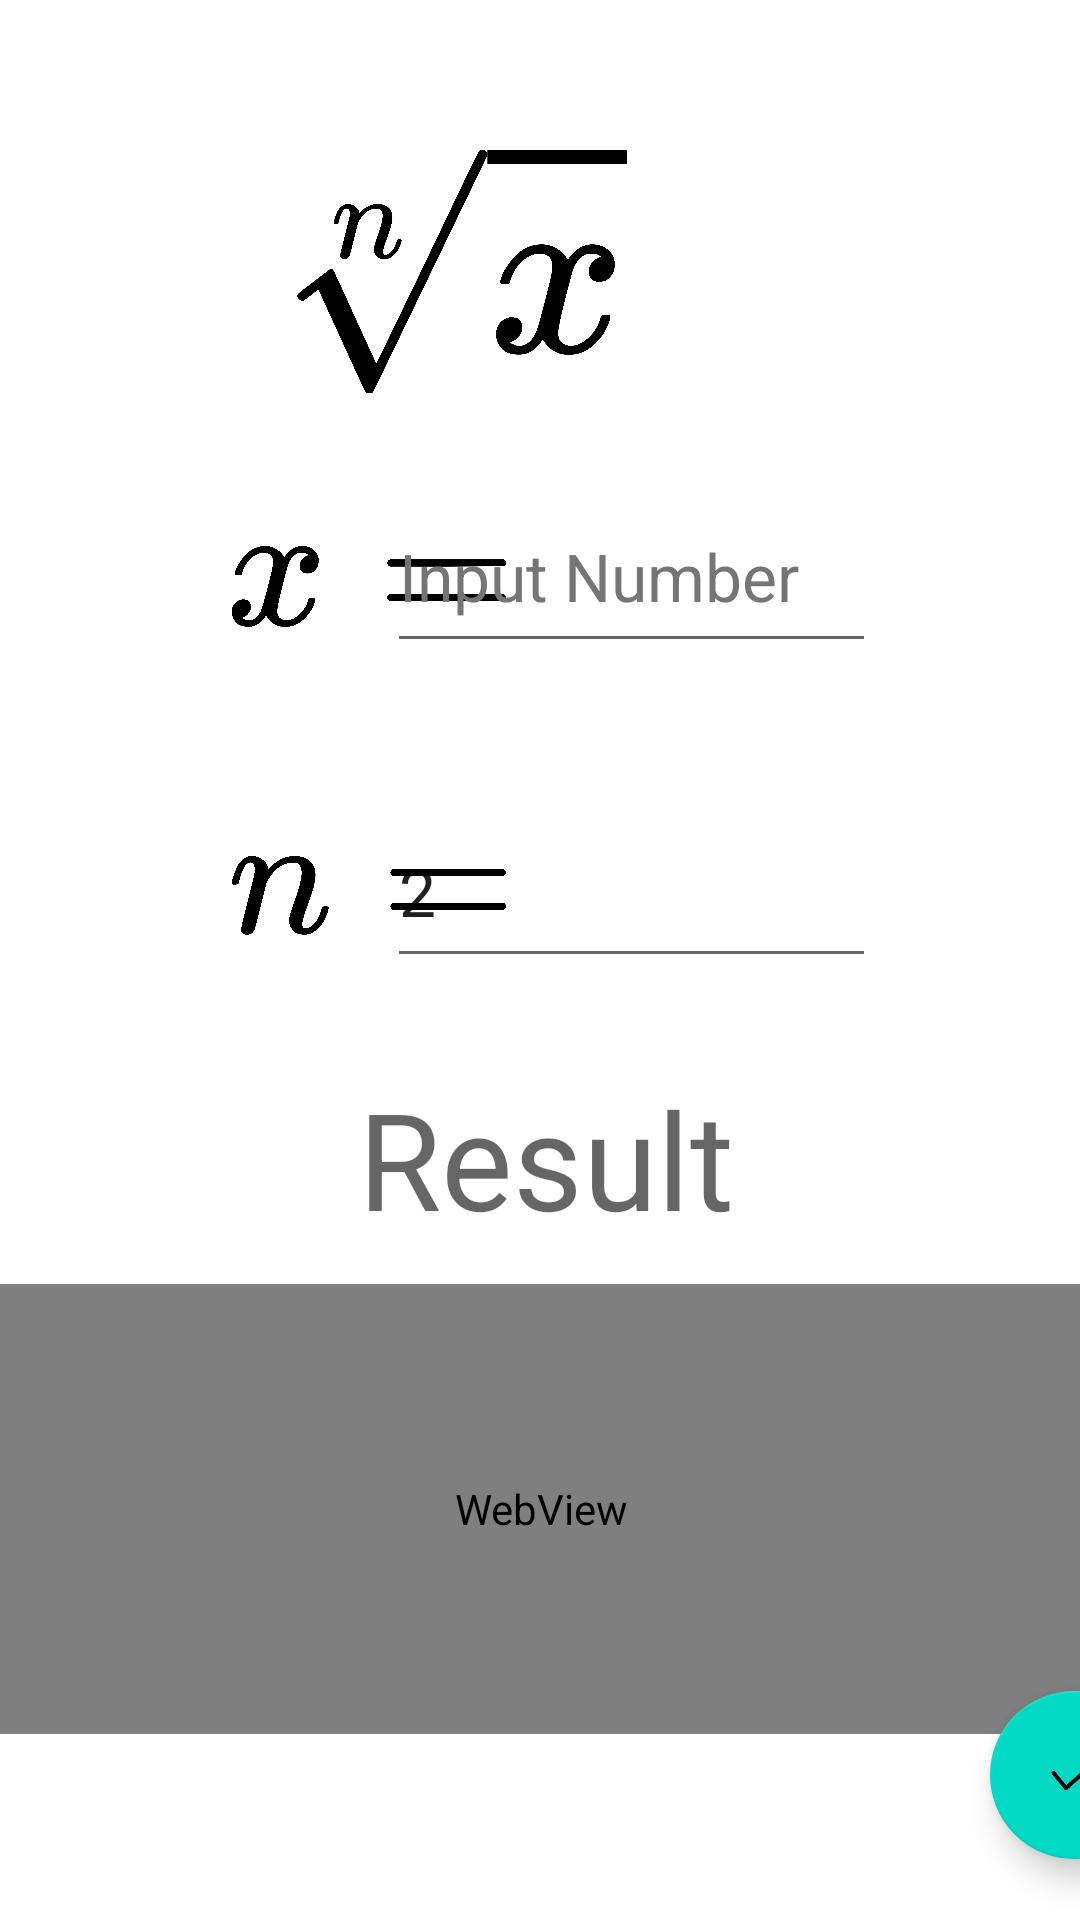

Where to tap for icons on this 1080px×1920px app screen, as point (x, y):
Formula Hint: point (462, 271)
